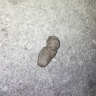Dog: (37, 35, 61, 68)
